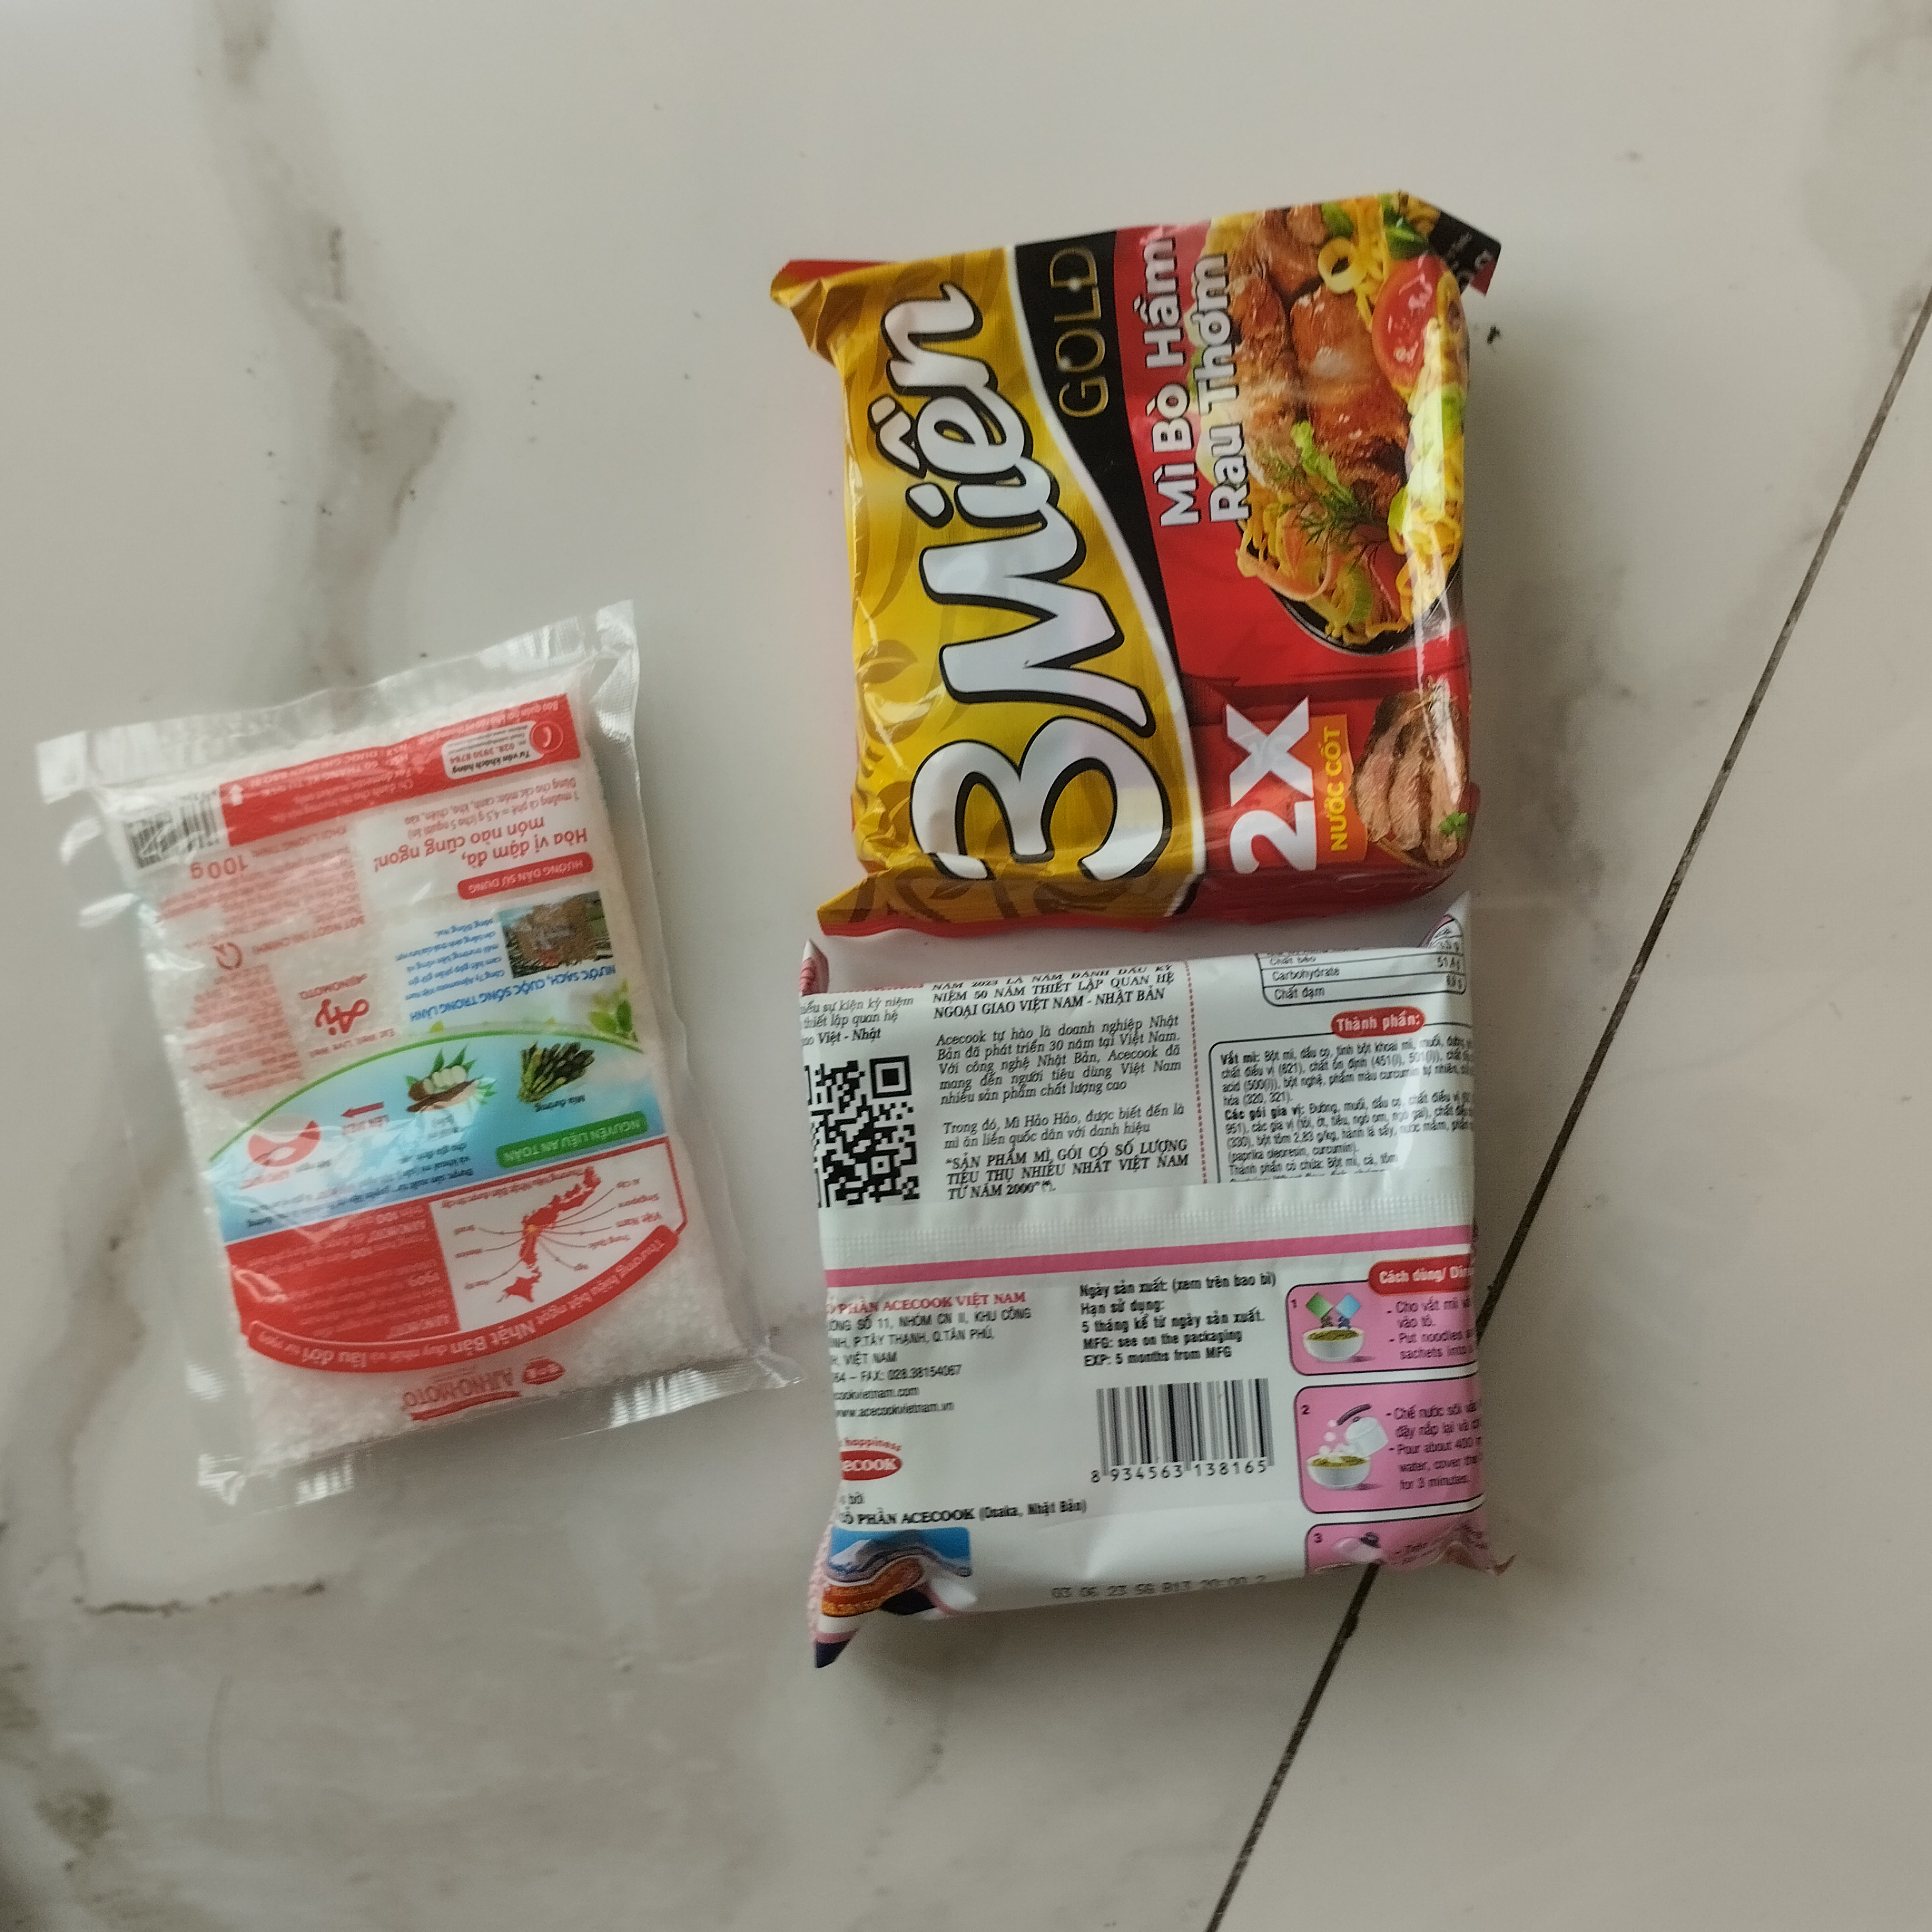3mien: (752, 184, 1525, 941)
Ajinomoto: (41, 648, 741, 1507)
Haohao: (759, 885, 1537, 1691)
